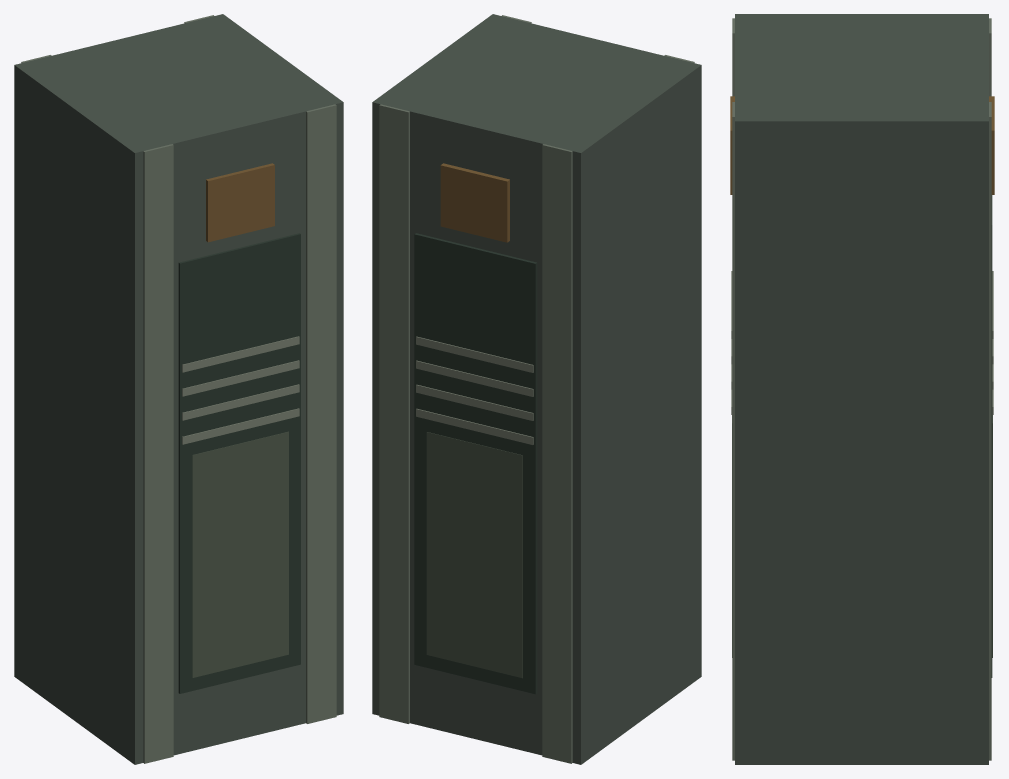
The model's file is CMU3DEngineeringReinforcedWall.glb.
3 views of the same model, side by side, from view 1: azimuth 30°, elevation 25°; view 2: azimuth 150°, elevation 25°; view 3: azimuth 270°, elevation 25° (orthographic). The views are drawn at different scales.
Parts seen in each view (by area): view 1: reinforced wall body, raised reinforcing column (×2), dark inset panel, central ribbed plate, upper service hatch, panel horizontal ribs (×4); view 2: reinforced wall body, raised reinforcing column (×2), dark inset panel, central ribbed plate, upper service hatch, panel horizontal ribs (×4); view 3: reinforced wall body, raised reinforcing column (×2), dark inset panel.
Boxes of the visible parts, x1,y1,x2,y2 form: reinforced wall body: [14, 14, 343, 764]; raised reinforcing column (×2): [143, 104, 336, 763]; dark inset panel: [178, 233, 300, 693]; central ribbed plate: [192, 431, 288, 677]; upper service hatch: [206, 163, 274, 242]; panel horizontal ribs (×4): [182, 336, 299, 444]; reinforced wall body: [372, 14, 701, 764]; raised reinforcing column (×2): [379, 104, 572, 763]; dark inset panel: [414, 233, 537, 694]; central ribbed plate: [426, 432, 522, 678]; upper service hatch: [440, 163, 509, 242]; panel horizontal ribs (×4): [416, 336, 533, 444]; reinforced wall body: [735, 14, 988, 764]; raised reinforcing column (×2): [732, 102, 991, 760]; dark inset panel: [991, 195, 992, 677].
Size of the model in its own units: 1 by 2.8 by 1.04.
